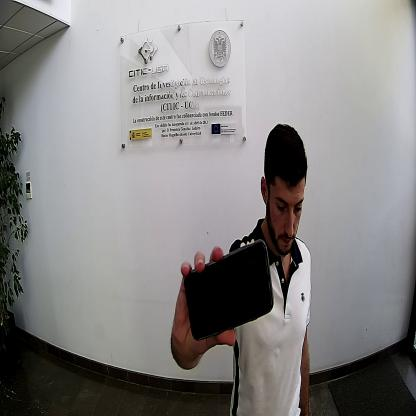smartphone: (183, 238, 274, 342)
